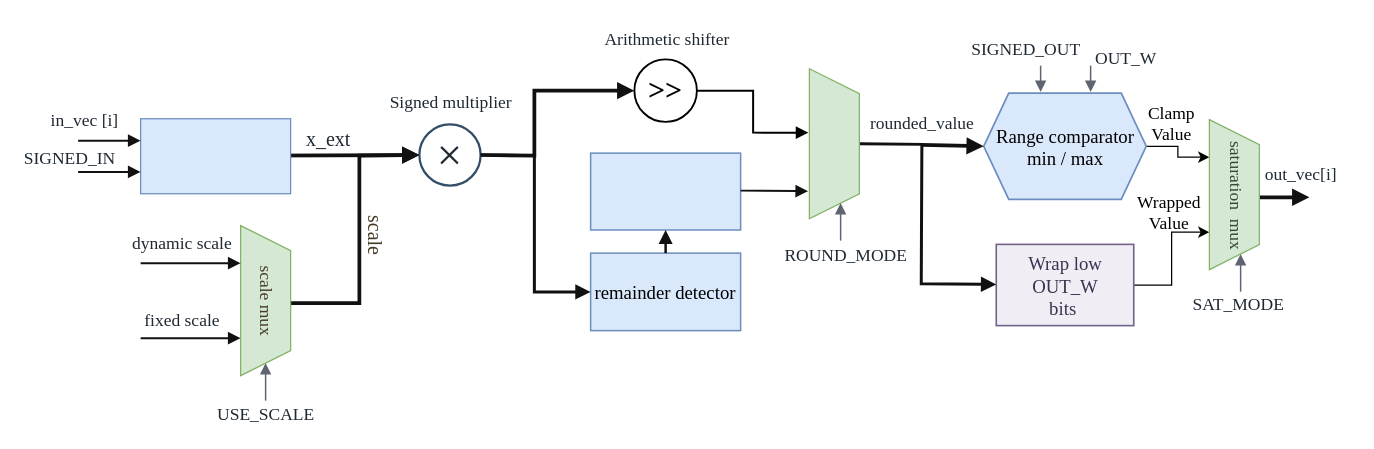
This 1374x449 diagram has some shape labels left out. Here are the shapes that lost their labels. From the top down, the box of each, then its label:
(139, 118, 291, 194): Sign/zero extender
(808, 68, 859, 219): round mux
(589, 152, 741, 230): +1 if > half or tie and odd
